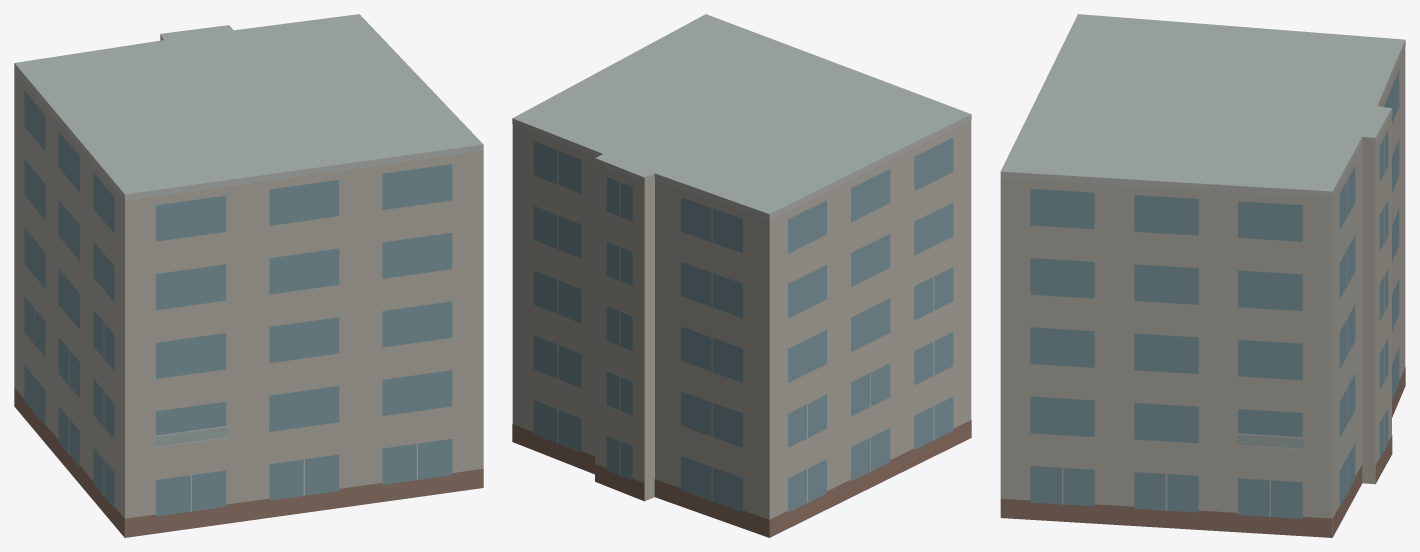
The model's file is survey-upis-32888561.glb.
3 renders of one model, left to right at view 1: azimuth 30°, elevation 25°; view 2: azimuth 150°, elevation 25°; view 3: azimuth 270°, elevation 25°, orthographic. The views are drawn at different scales.
Parts seen in each view (by area): view 1: survey-upis-32888561.tmp; view 2: survey-upis-32888561.tmp; view 3: survey-upis-32888561.tmp.
Boxes of the visible parts, x1,y1,x2,y2 form: survey-upis-32888561.tmp: [14, 14, 483, 537]; survey-upis-32888561.tmp: [512, 14, 971, 537]; survey-upis-32888561.tmp: [1000, 14, 1405, 537].
Bounding box in the file's own units: 14.3 × 13 × 13.79.
